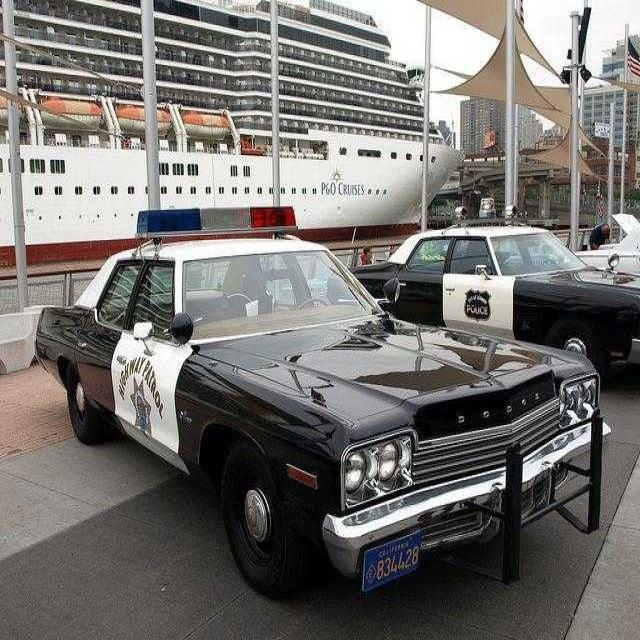firetruck: (23, 193, 638, 624), (359, 184, 640, 404)
